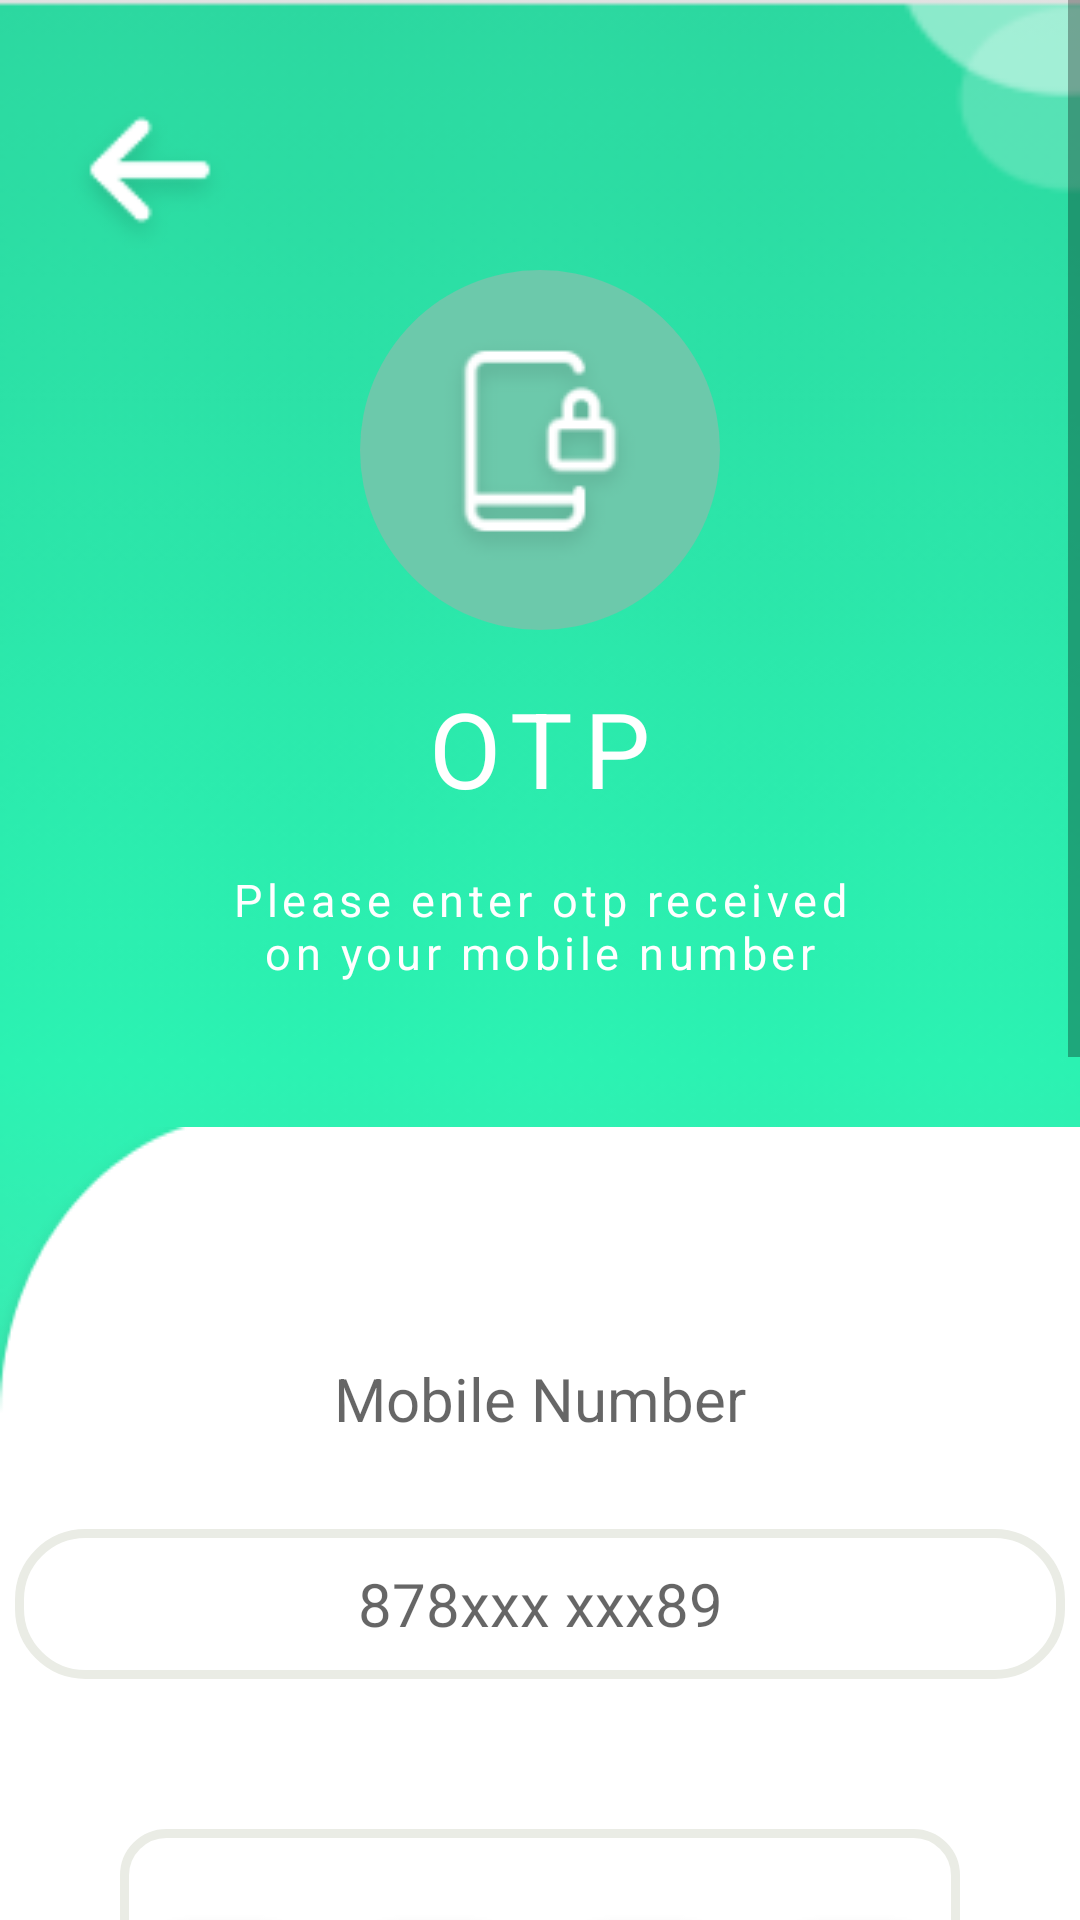

Icons on this 1080x1920 Android screen, each with the point to tap as [x,y]:
back: [150,170]
